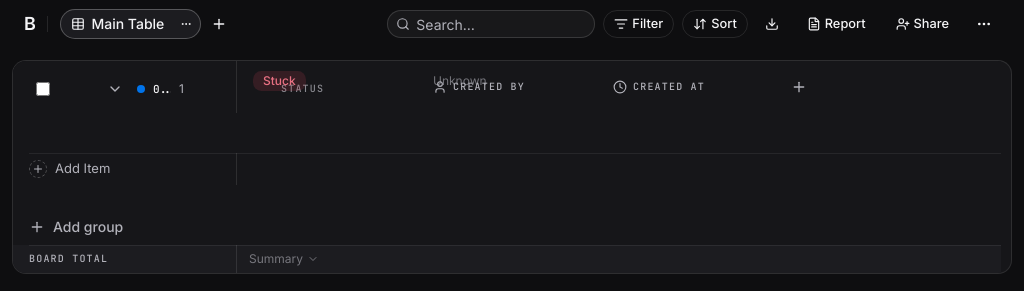
Scenario: BoardTable inline edit (optimistic + rollback) › optimistically applies then rolls back a status edit when the action fails
Click the button with aria-label "One Status" at (279, 81), box top-left (253, 71), bottom-right (306, 91)
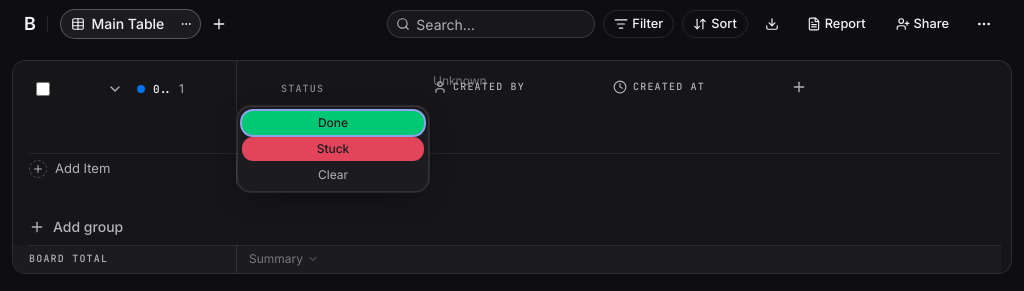
// Pick "Done" → optimistic write swaps the pill to "Done"…
Click the option "Done" at (333, 123), box top-left (242, 111), bottom-right (424, 135)
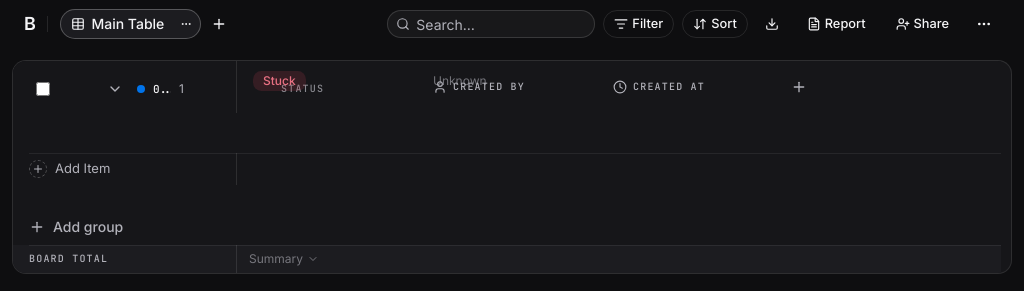
Expected: the text "Stuck" is shown, top-left (253, 71), bottom-right (306, 91)
Result: the option "Done" is gone
